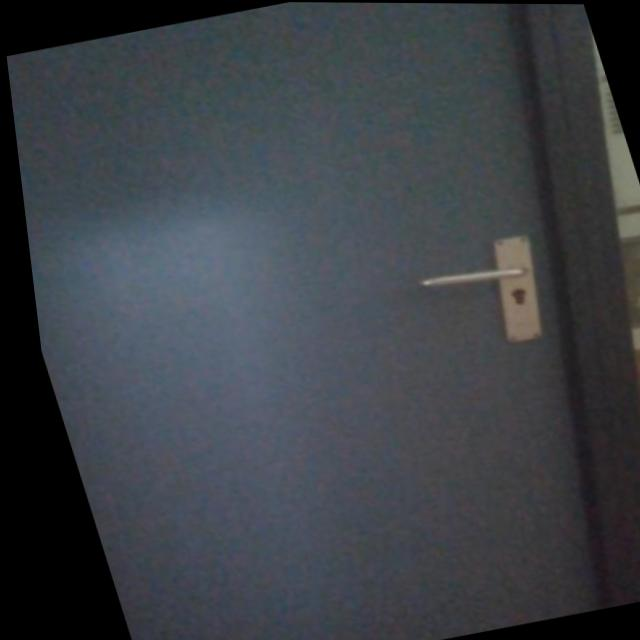door_handle: (399, 253, 532, 305)
